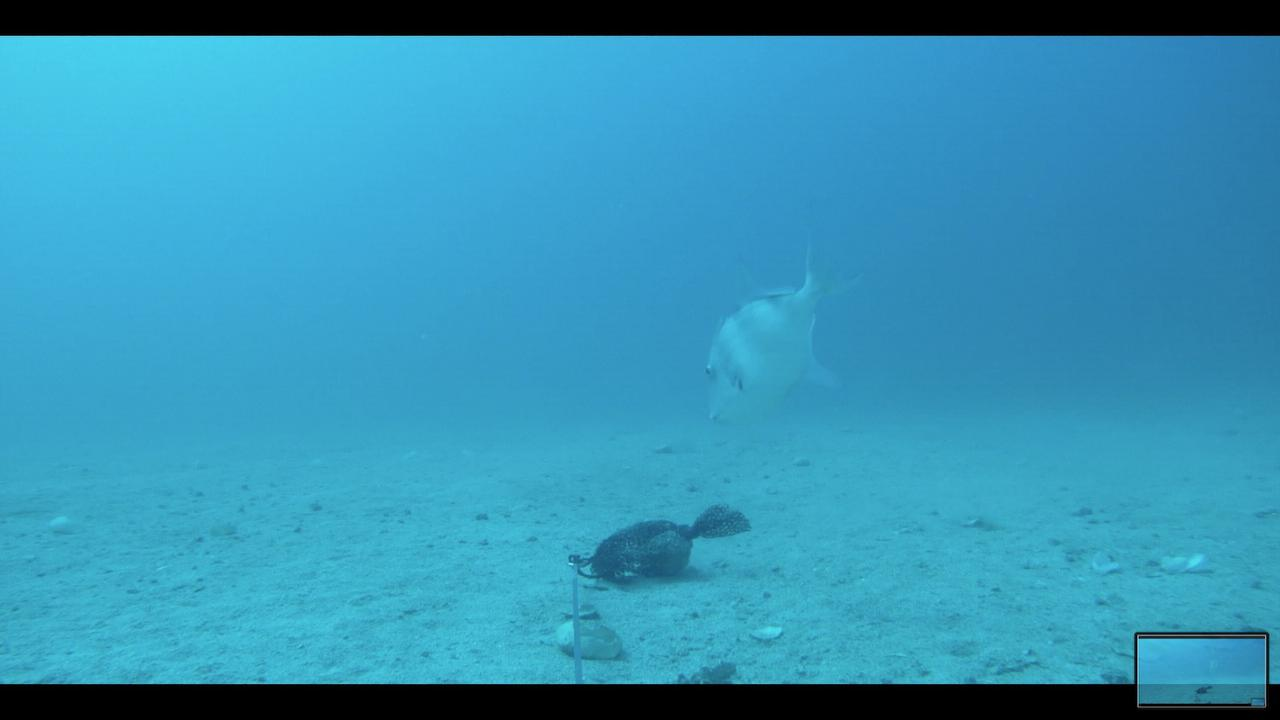balistes: (696, 230, 868, 437)
